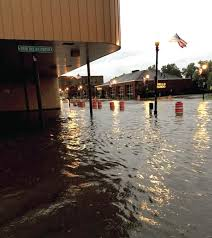barrel: (173, 101, 183, 114), (118, 101, 124, 109), (109, 101, 114, 110), (92, 99, 97, 108), (98, 100, 101, 107)
